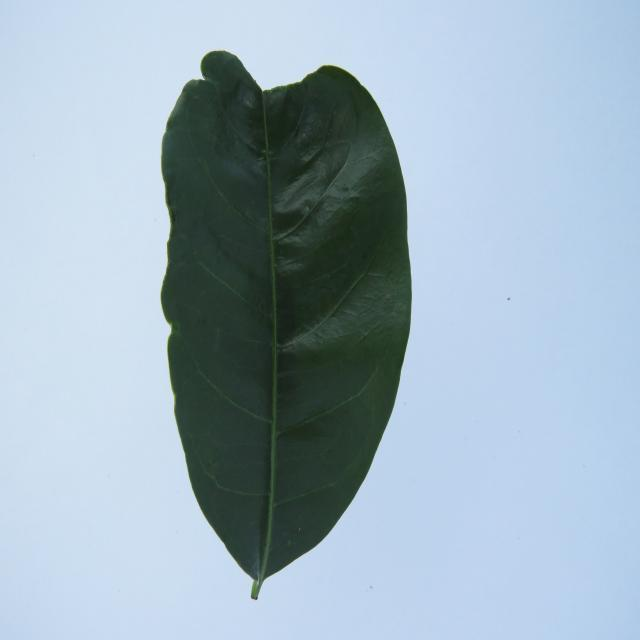DeficienciaNutricional-Boro: (161, 52, 411, 598)
